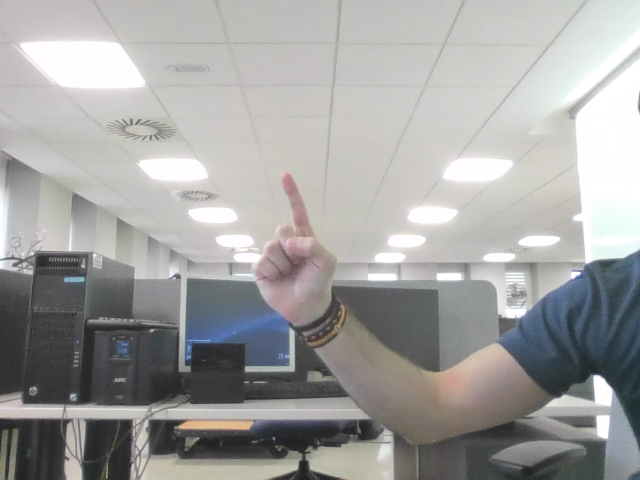1Dedo: (265, 184, 322, 283)
